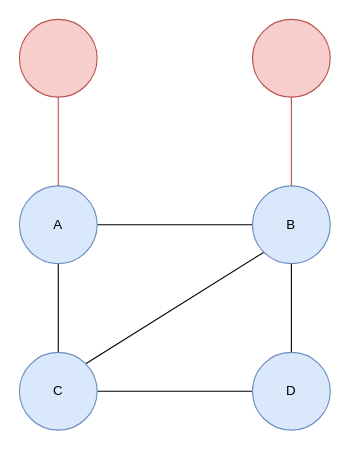
Some shapes in this 350 by 450 pixel diagram are drawn without their labels. The centre of each missing label's shape, as x and y in pixels:
"A'" goes at point (57, 57).
"B'" goes at point (290, 57).
